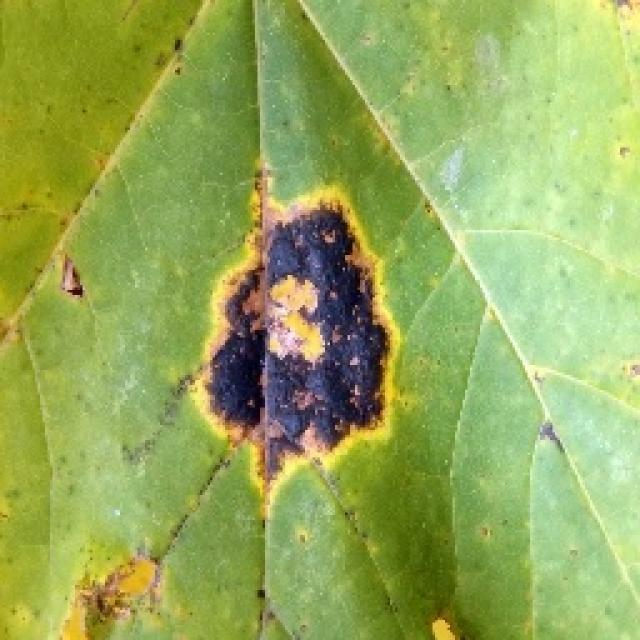Tar_Spot: (155, 176, 443, 530)
